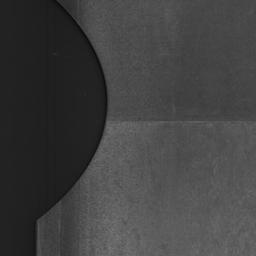Crescent gap: (39, 23, 108, 219)
